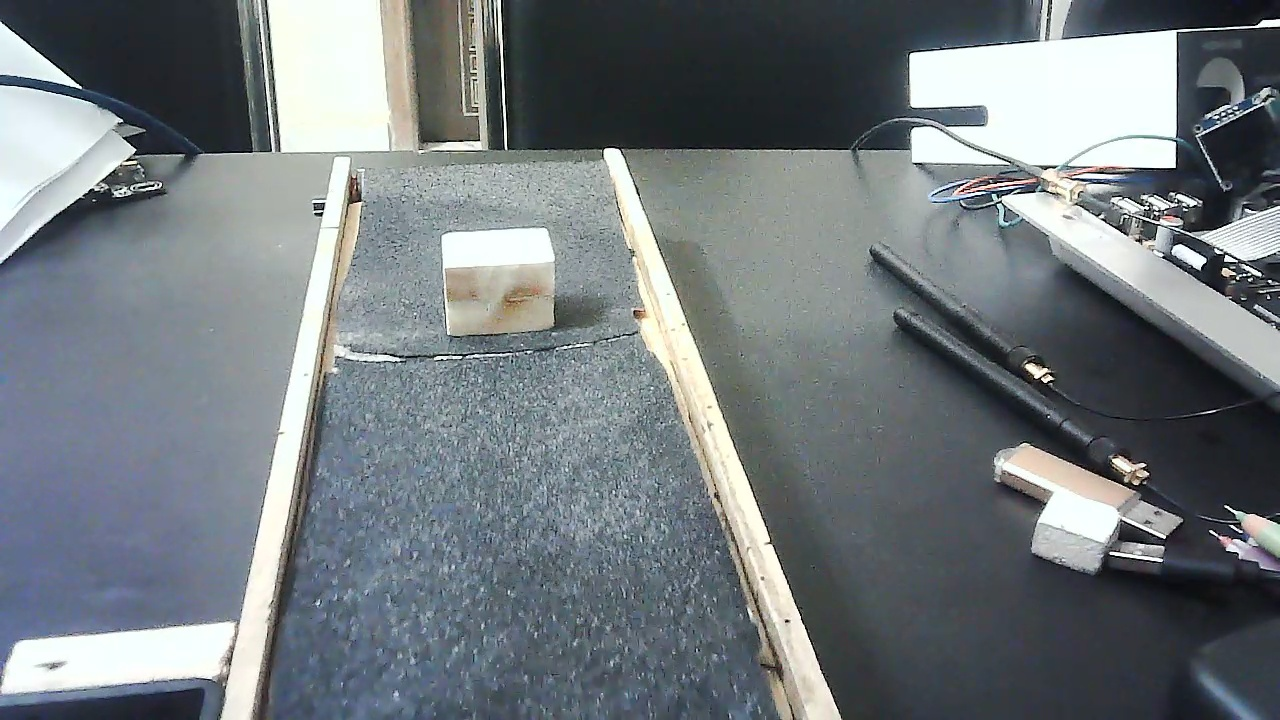Medium: (440, 221, 557, 338)
